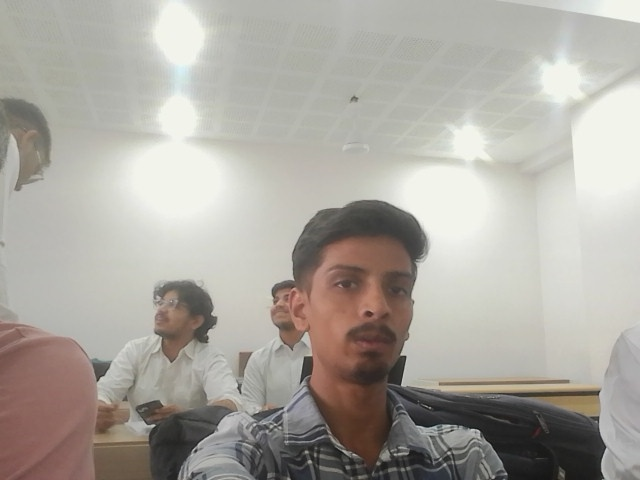fan_on: (340, 94, 369, 153)
light_on: (145, 8, 222, 160), (413, 117, 539, 171), (536, 67, 601, 110)
person: (169, 206, 511, 479), (0, 314, 99, 479), (599, 315, 639, 479)
